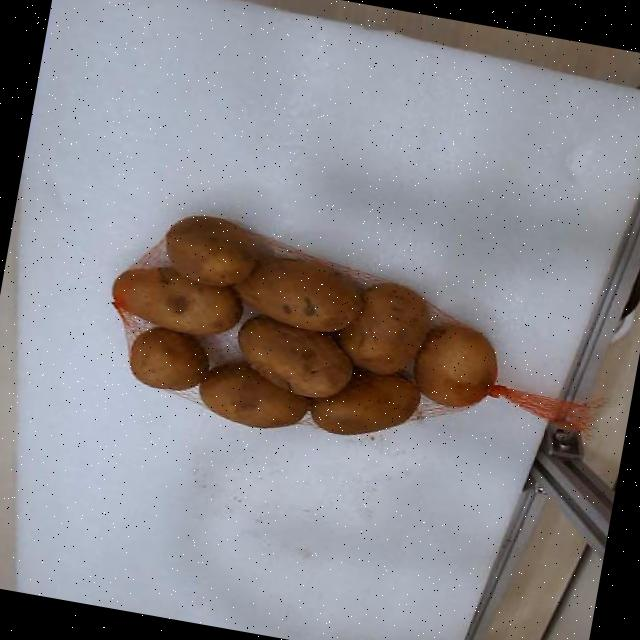potato: (235, 255, 363, 331), (238, 315, 352, 397), (112, 266, 241, 334), (337, 282, 429, 373), (198, 362, 310, 426), (313, 370, 420, 434), (414, 325, 496, 406), (166, 216, 256, 285), (130, 327, 208, 388)
